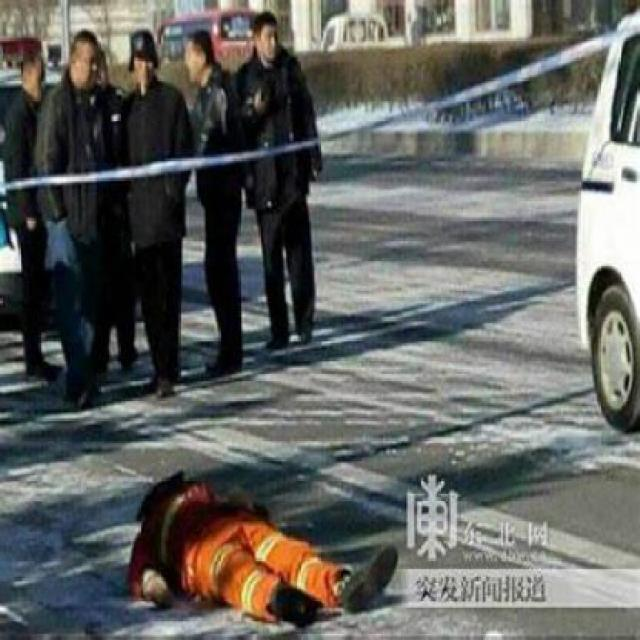fall: (107, 450, 407, 632)
